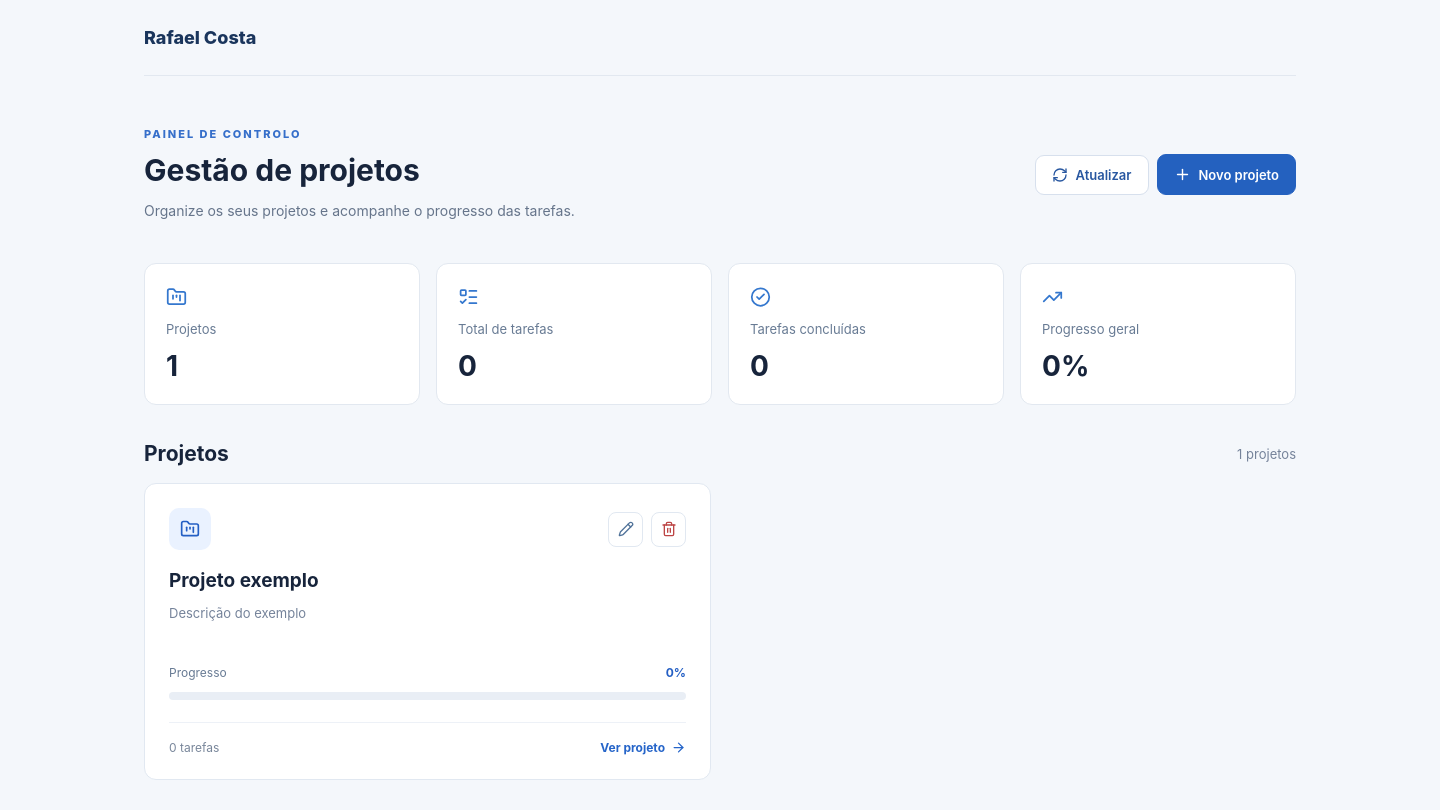
Scenario: Ramificações do dashboard › elimina projeto quando confirmado
This screenshot has width=1440, height=810.
Expected: the heading "Projeto exemplo" is shown, [169, 569, 319, 592]
Click the button named "Eliminar Projeto exemplo" at [668, 529], box [651, 512, 686, 546]
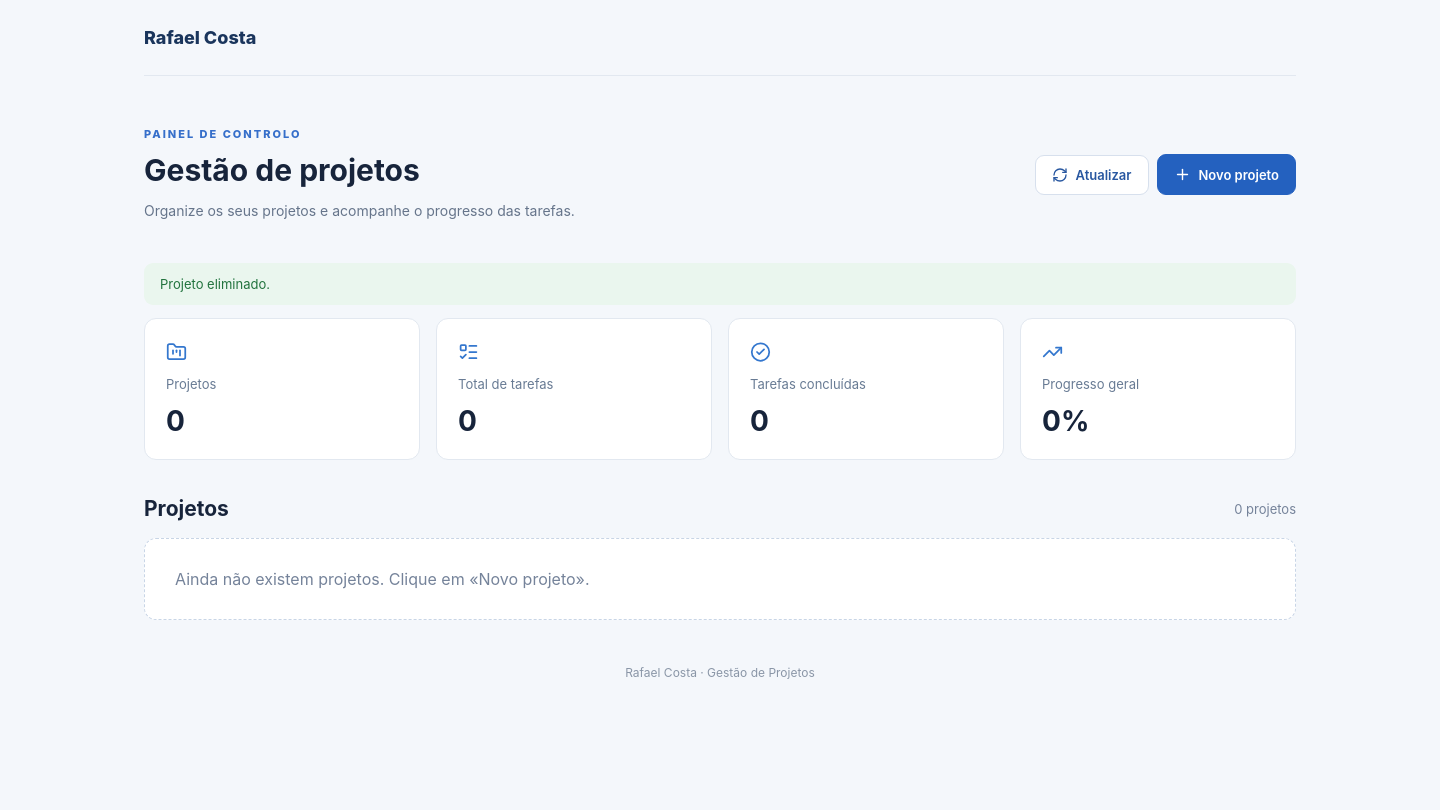
Expected: the text "Ainda não existem projetos. Clique em «Novo projeto»." is shown, [144, 538, 1296, 620]
